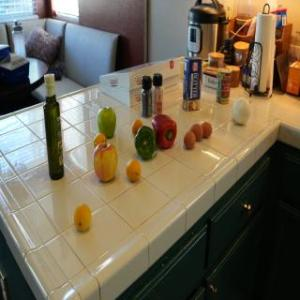bell_pepper: (151, 112, 177, 148), (135, 126, 157, 160)
egg: (190, 124, 203, 140), (184, 132, 196, 148), (202, 122, 214, 138)
onion: (232, 99, 254, 127)
